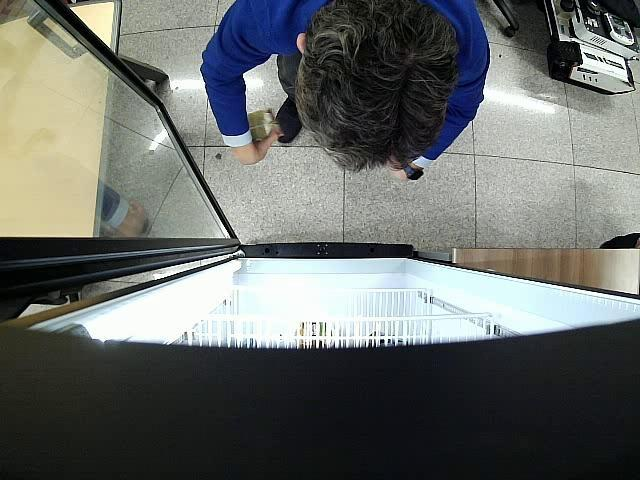03_chapagetti_L: (248, 108, 284, 141)
